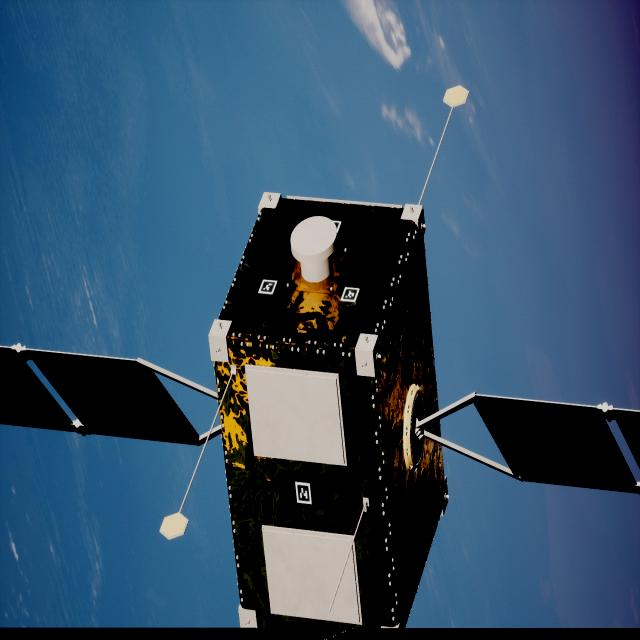satellite: (0, 193, 640, 629)
